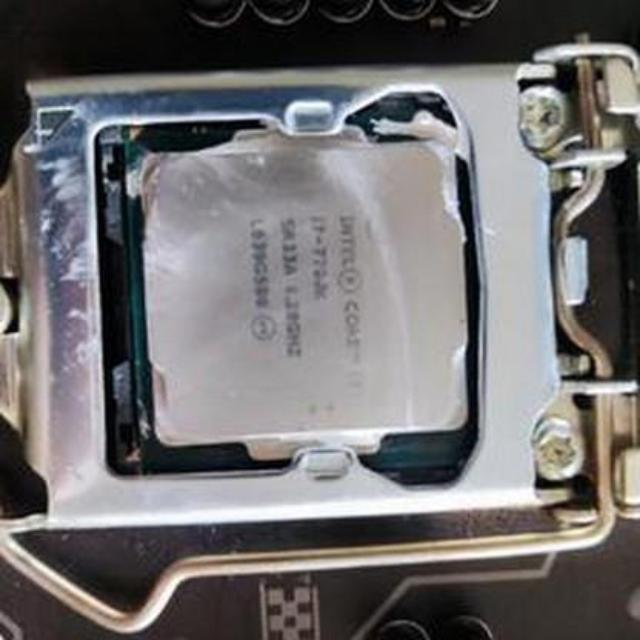CPU: (98, 118, 478, 473)
